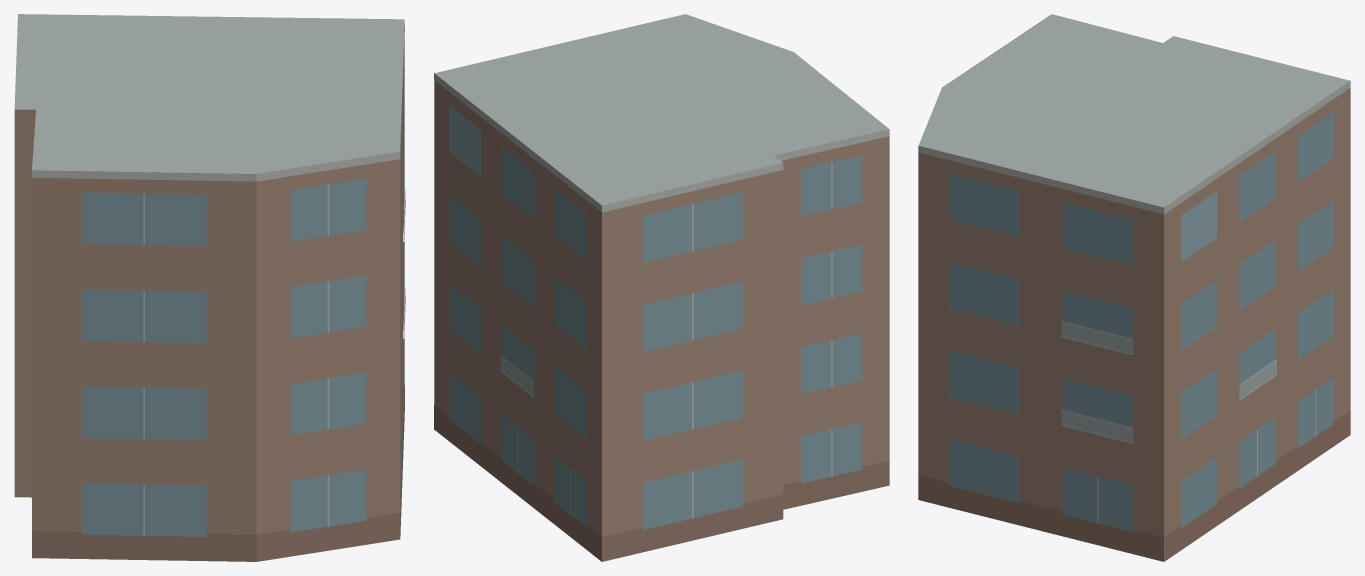
File: survey-upis-32916713.glb
3 renders of one model, left to right at view 1: azimuth 30°, elevation 25°; view 2: azimuth 150°, elevation 25°; view 3: azimuth 270°, elevation 25°, orthographic. The views are drawn at different scales.
Parts seen in each view (by area): view 1: survey-upis-32916713.tmp; view 2: survey-upis-32916713.tmp; view 3: survey-upis-32916713.tmp.
Boxes of the visible parts, x1,y1,x2,y2 form: survey-upis-32916713.tmp: [14, 14, 405, 561]; survey-upis-32916713.tmp: [434, 14, 889, 561]; survey-upis-32916713.tmp: [918, 14, 1350, 561].
Size of the model in its own units: 14.78 by 12.6 by 13.94.
